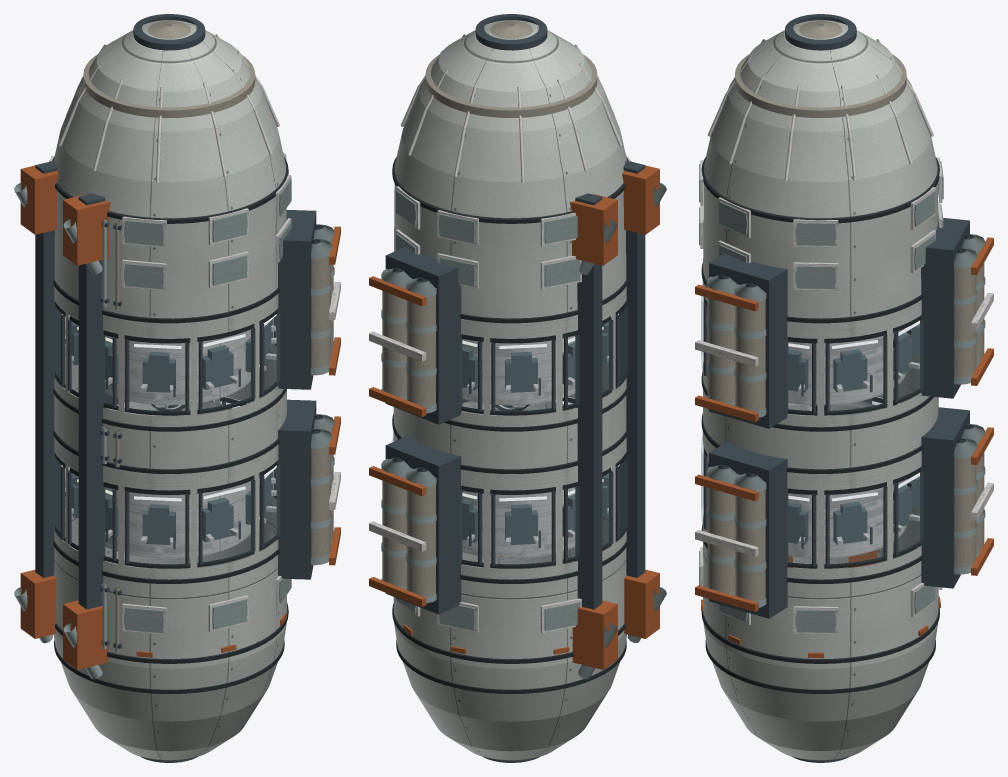
Rendered from CounterCar.fbx.
The picture shows the model from 3 angles, left to right: view 1: azimuth 30°, elevation 25°; view 2: azimuth 150°, elevation 25°; view 3: azimuth 270°, elevation 25°; orthographic projection.
Parts seen in each view (by area): view 1: counter_body, counter_freight; view 2: counter_body, counter_freight; view 3: counter_body, counter_freight.
Part boxes in pixels (x1,y1,x2,y2): counter_body: (14,14,291,762); counter_freight: (105,210,340,579); counter_body: (392,14,666,762); counter_freight: (369,246,470,614); counter_body: (699,14,943,762); counter_freight: (695,218,993,618).
Bounding box in the file's own units: 3.45 × 8.92 × 3.32.
11 materials, 4 textured.
